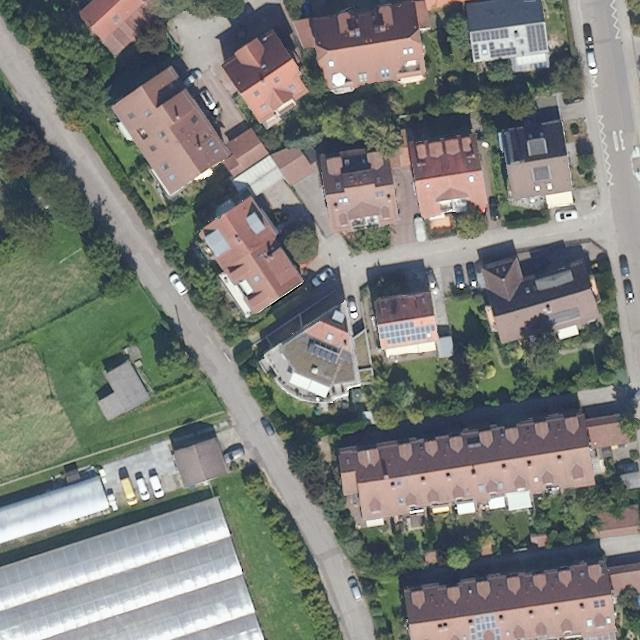PV: (378, 320, 436, 345), (469, 615, 501, 639), (526, 24, 547, 52), (488, 41, 517, 58), (472, 29, 509, 42), (473, 44, 480, 60)
